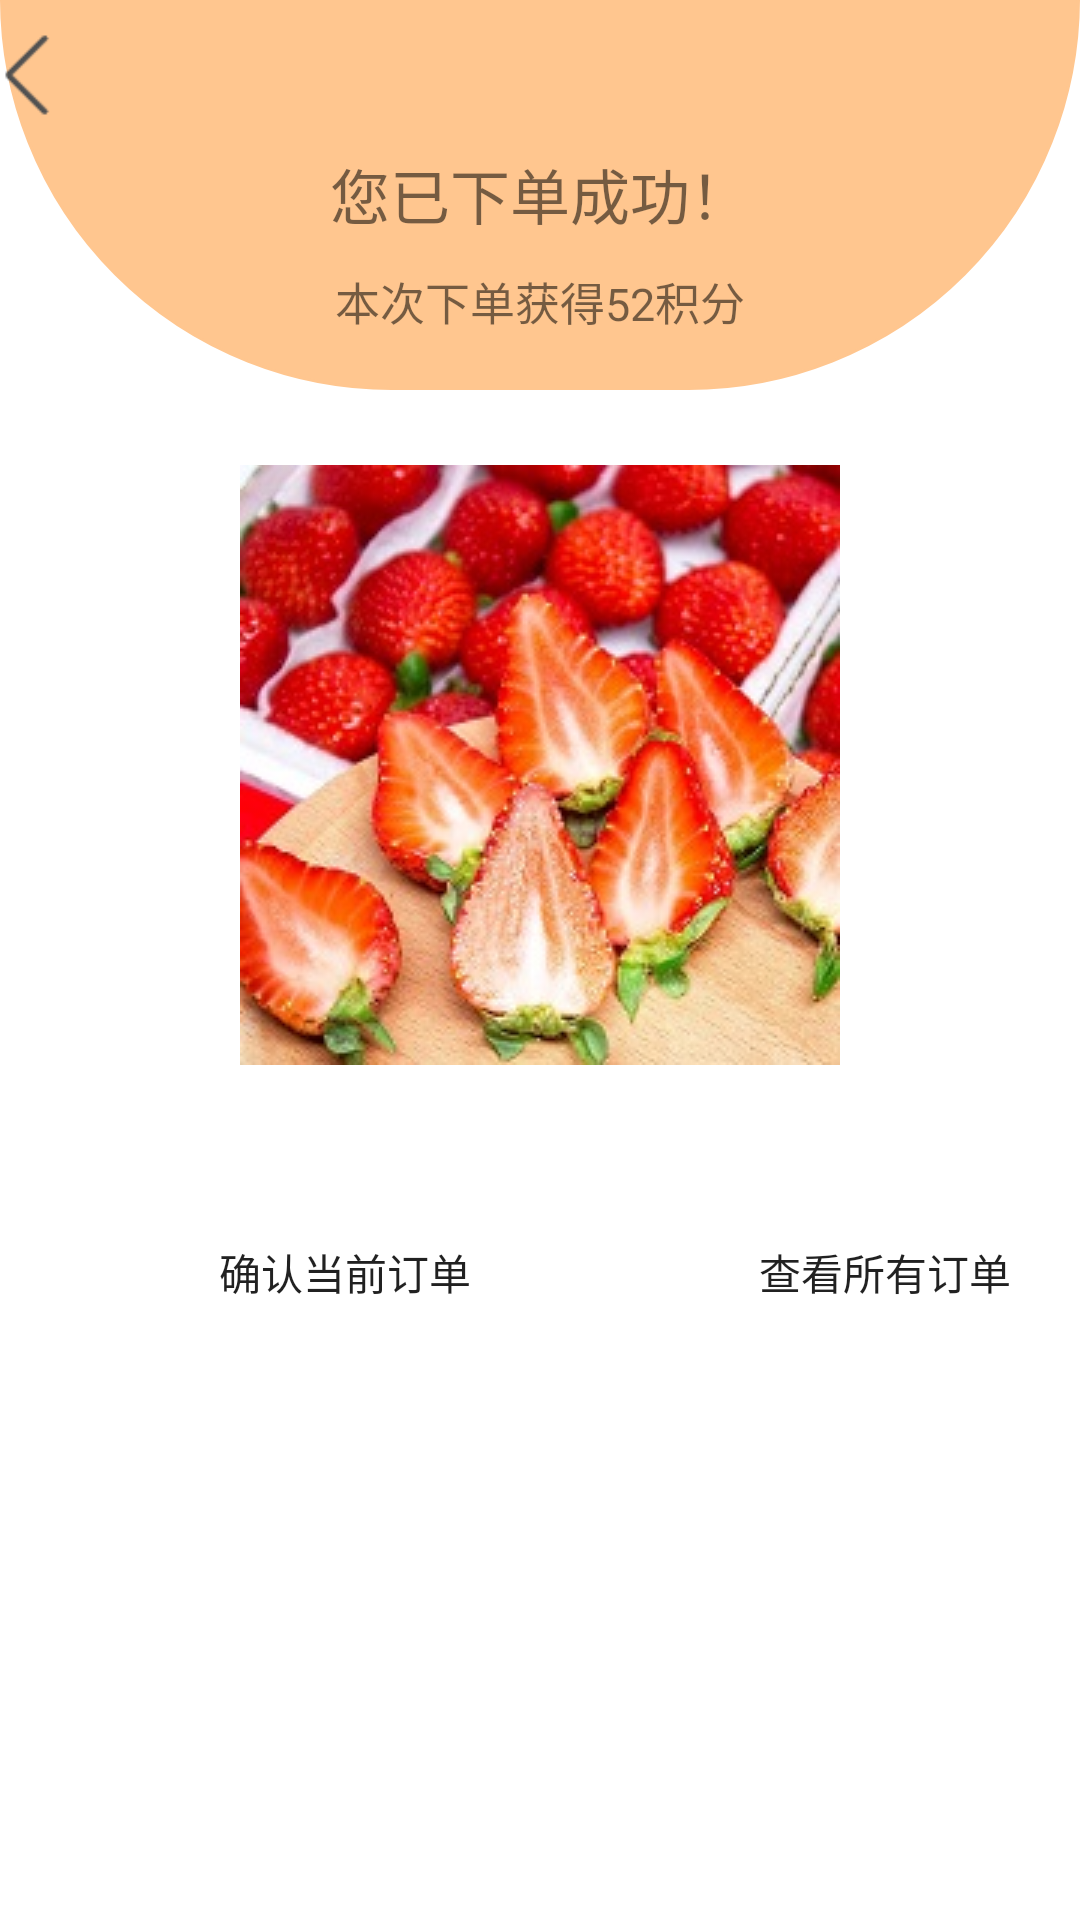

Icons on this 1080 × 1920 Android screen, each with its box as (x1, y1, x2, y2):
fanhui: (0, 30, 49, 120)
